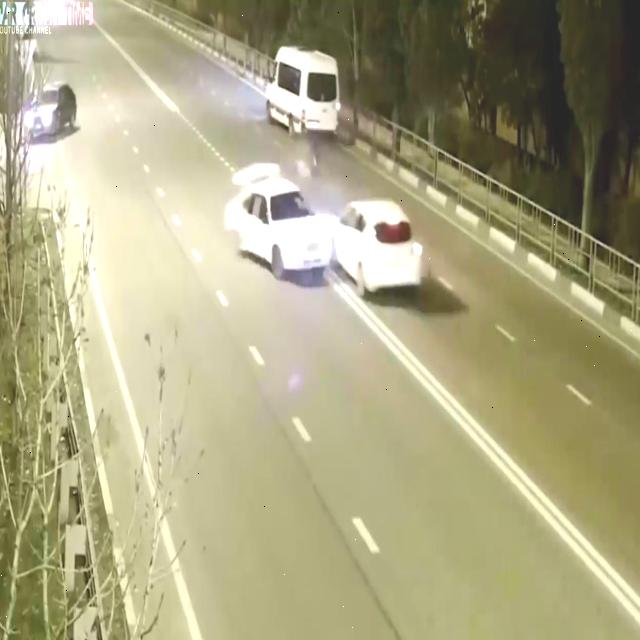accident: (213, 141, 448, 313)
